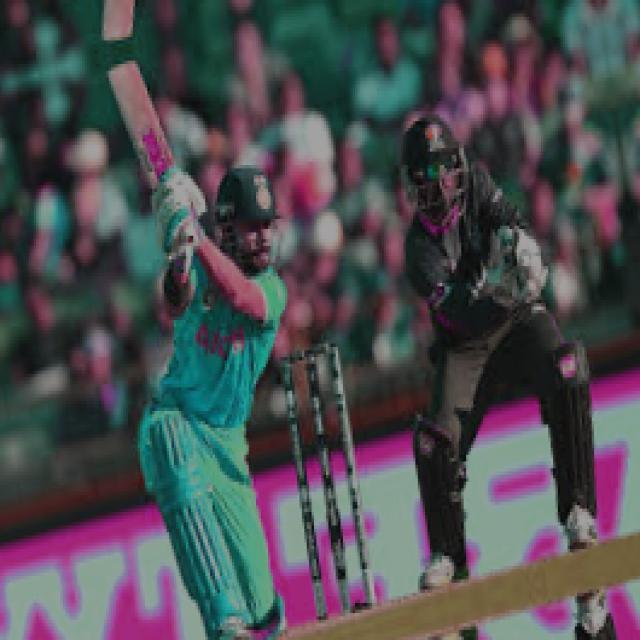bat: (105, 59, 182, 191)
toe: (101, 60, 140, 75)
